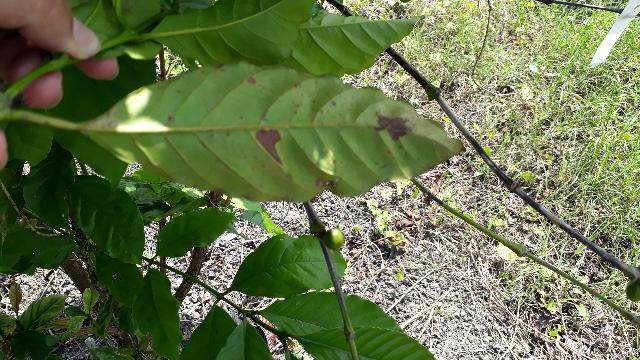red_spider_mite: (173, 158, 561, 295)
